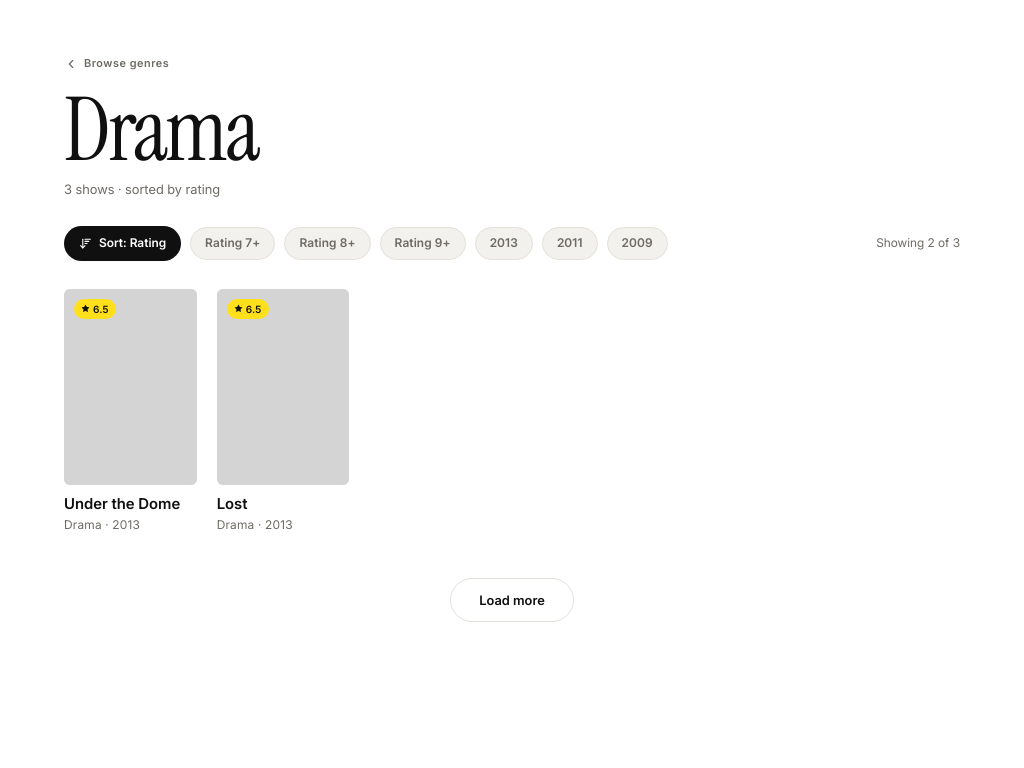
Test: GenreView load more failures › reports the failure inline underneath the grid
The width and height of the screenshot is (1024, 768).
Click the button with test id "genre-load-more-btn".
click(512, 600)  # box [450,578,574,622]
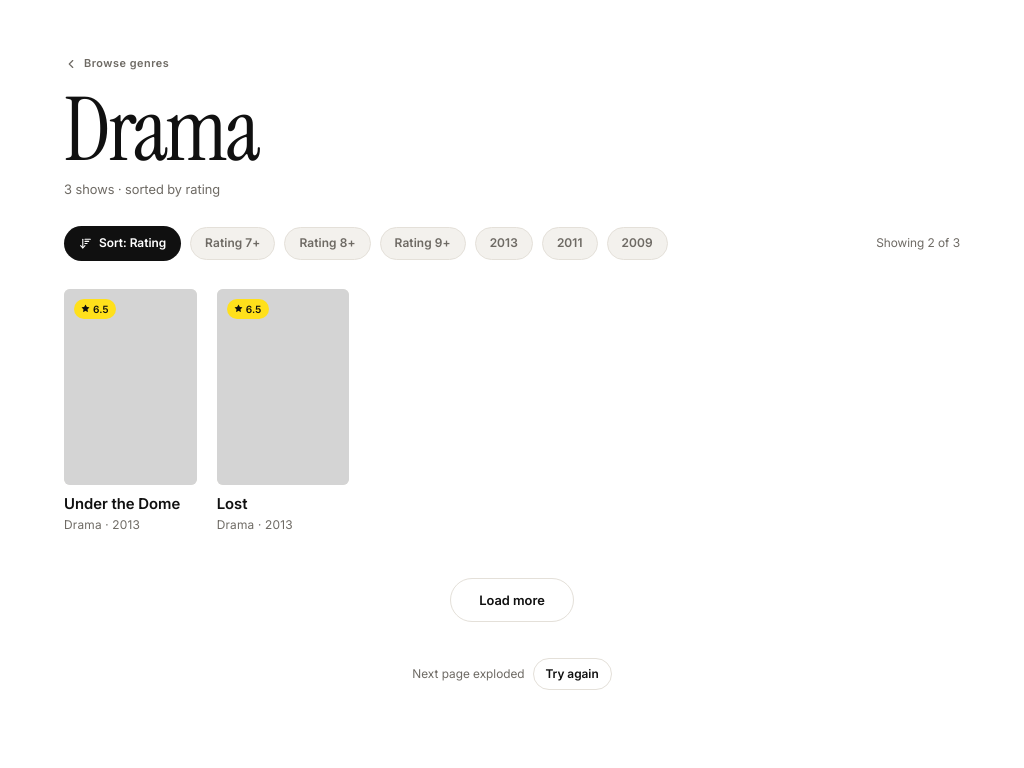
Expected: the element with test id "genre-load-more-error" shows "Next page exploded", [412,666,525,681]
Expected: the button with test id "genre-load-more-retry-btn" reads "Try again", [532,658,612,690]
